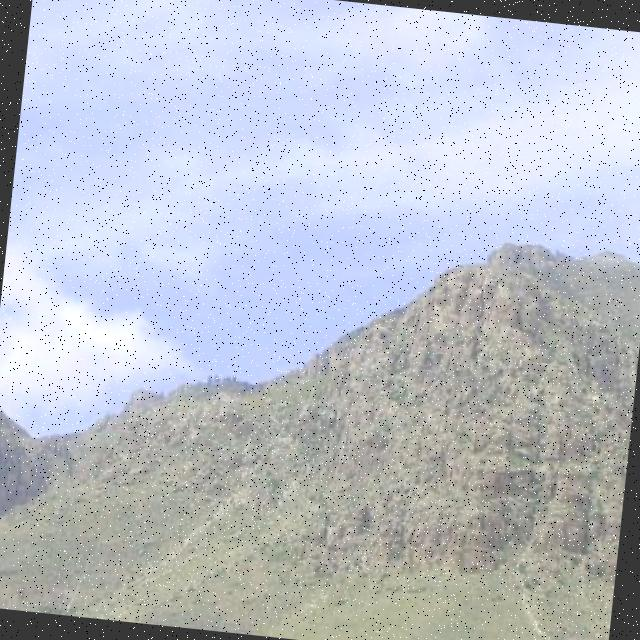Cs: (16, 1, 640, 222)
